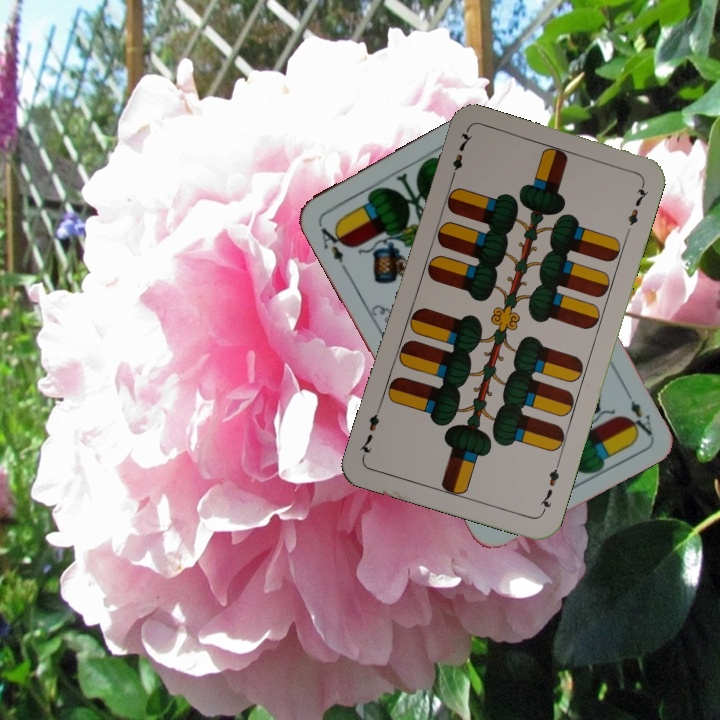E7: (446, 127, 475, 185), (536, 458, 563, 516)
EA: (619, 383, 655, 439), (316, 222, 351, 274)
